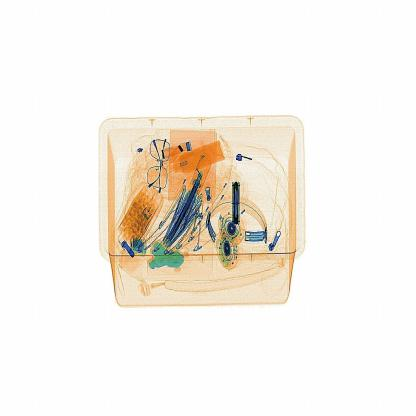scissors: (224, 172, 252, 229)
